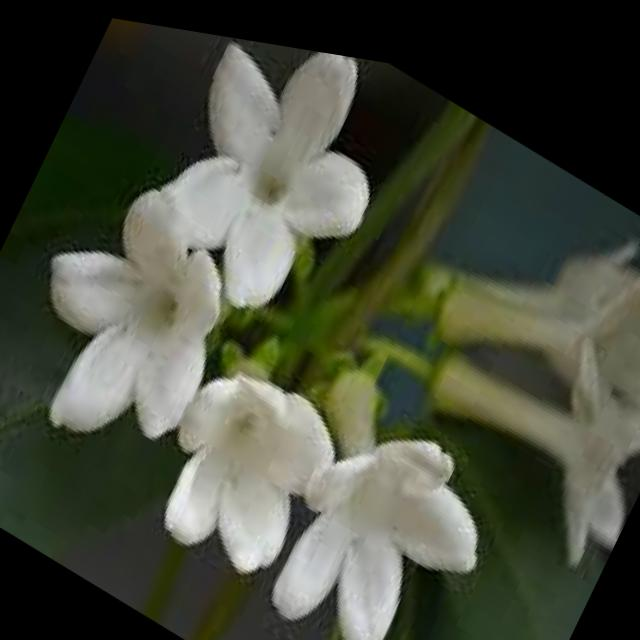Flower: (113, 15, 420, 366), (0, 126, 293, 491), (134, 306, 395, 624), (246, 340, 519, 640), (388, 249, 640, 542)
